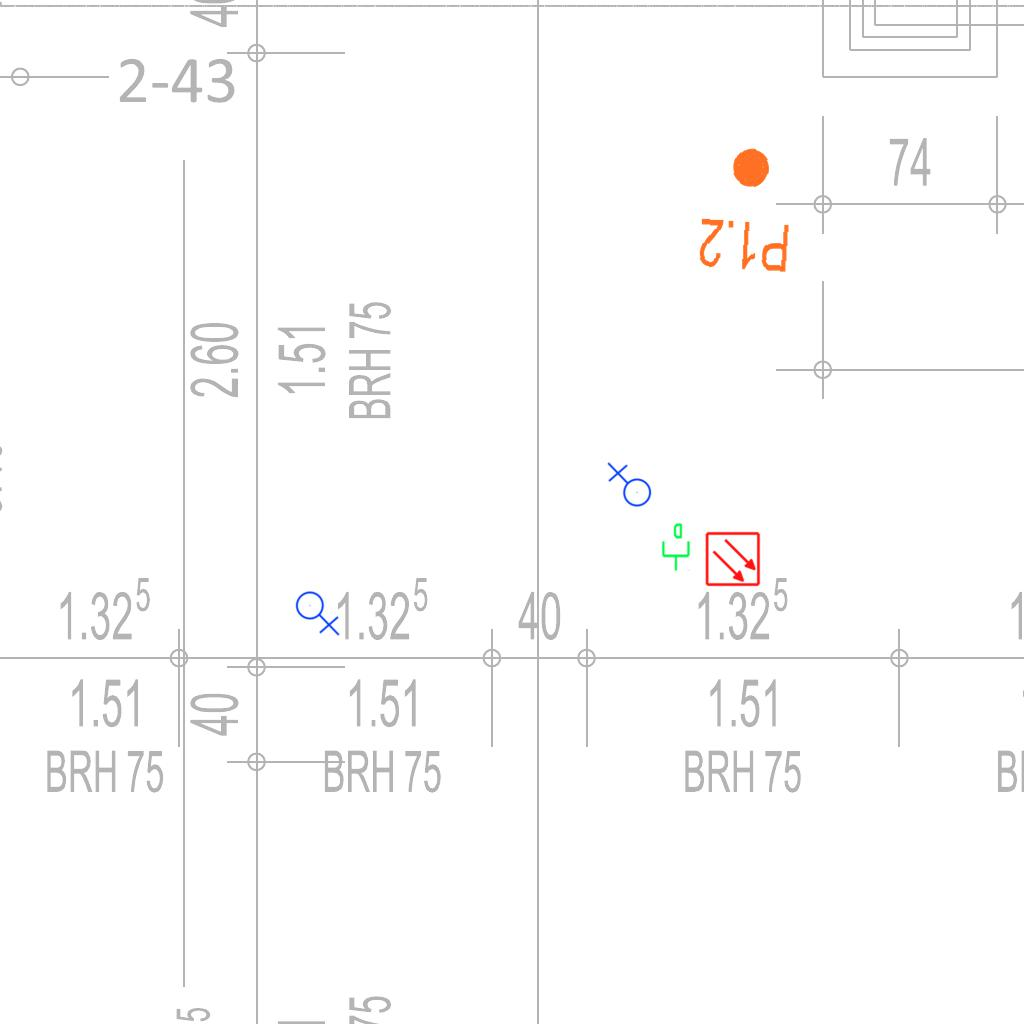Datenanschluss_einfach: (658, 522, 692, 572)
Downlight_LED_Einbauleuchten_Flur: (695, 141, 798, 277)
Elektroanschluss_allgemein_230V_Geraeteanschlussdose_230V: (295, 587, 342, 636), (605, 462, 652, 511)
RMO_Rauchmelder_optischer: (705, 531, 761, 587)
